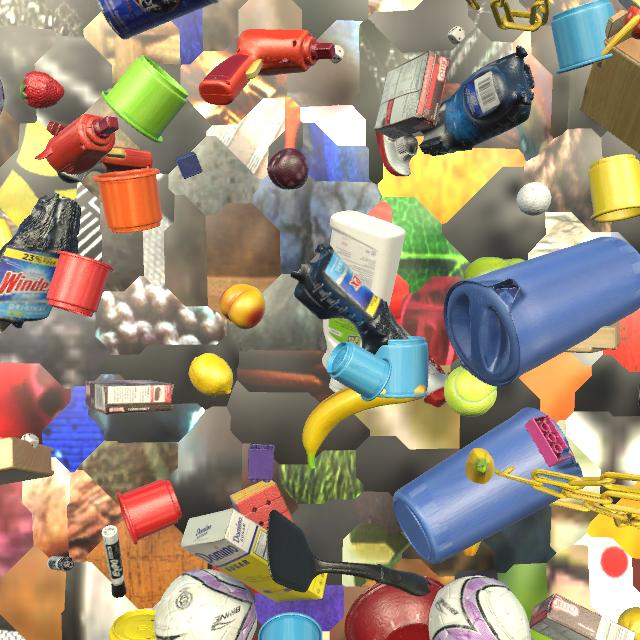ycb_002_master_chef_can: (96, 0, 220, 40)
ycb_004_sugar_box: (181, 508, 328, 602)
ycb_005_tomato_soup_can: (638, 383, 640, 407)
ycb_006_mustard_bottle: (0, 218, 13, 250)
ycb_007_tuna_fish_can: (531, 637, 533, 640)
ycb_008_pudding_box: (374, 50, 451, 139), (529, 593, 636, 640), (85, 380, 174, 415)
ycb_011_banana: (302, 385, 426, 469), (463, 448, 494, 557)
ycb_012_strawberry: (20, 71, 65, 109)
ycb_014_lemon: (189, 353, 233, 396), (617, 607, 640, 640)
ycb_015_peach: (219, 284, 266, 329)
ycb_016_pear: (463, 257, 525, 280)
ycb_018_plum: (267, 148, 309, 190)
